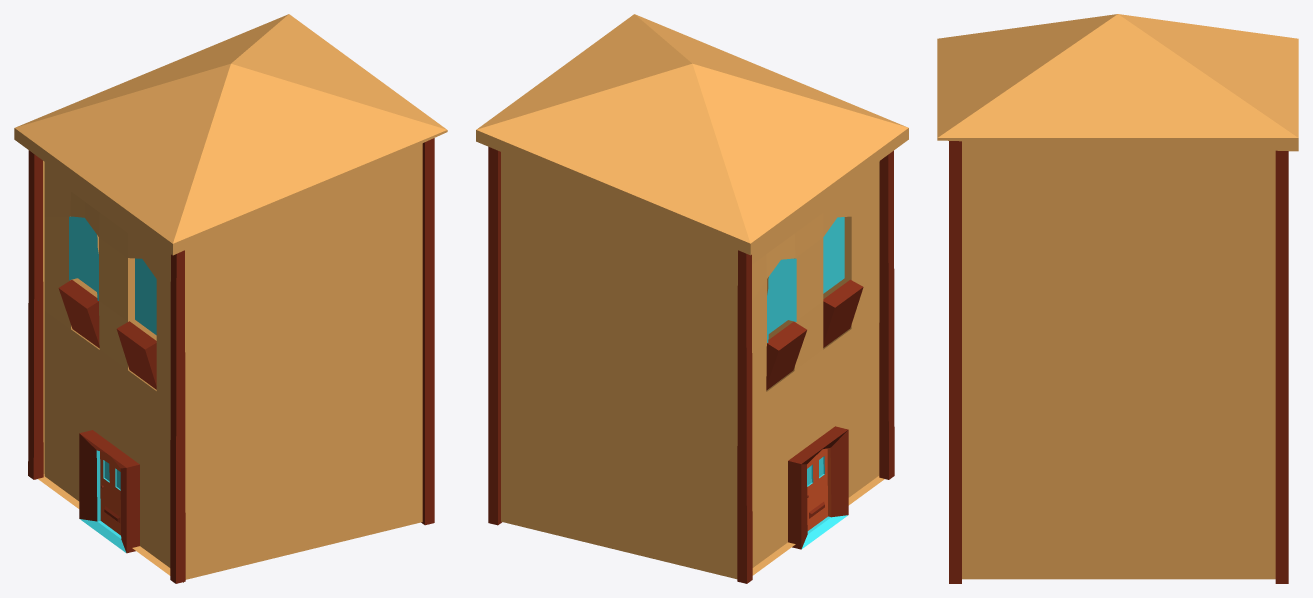
File: Building2Improved 1.fbx
The picture shows the model from 3 angles, left to right: view 1: azimuth 30°, elevation 25°; view 2: azimuth 150°, elevation 25°; view 3: azimuth 270°, elevation 25°; orthographic projection. The views are drawn at different scales.
Parts seen in each view (by area): view 1: Cube.007, Cube, Plane, Cube.001, Cube.004, Cube.002, Door Outline, windowcil, Plane.001, Door2.001, Door; view 2: Cube.007, Cube, Plane, Cube.004, Cube.001, Cube.003, Door Outline, windowcil, Plane.001, Door2.001, Door; view 3: Cube.007, Cube, Cube.003, Cube.002.
Boxes of the visible parts, box(x1,y1,x2,y2) form: Cube.007: box(43, 143, 422, 579); Cube: box(14, 14, 447, 575); Plane: box(44, 162, 183, 582); Cube.001: box(170, 250, 185, 583); Cube.004: box(28, 150, 43, 479); Cube.002: box(421, 138, 434, 525); Door Outline: box(79, 430, 139, 553); windowcil: box(58, 280, 156, 389); Plane.001: box(69, 216, 156, 335); Door2.001: box(100, 451, 120, 535); Door: box(80, 450, 126, 552); Cube.007: box(501, 152, 879, 579); Cube: box(476, 14, 908, 575); Plane: box(752, 161, 879, 567); Cube.004: box(737, 250, 752, 583); Cube.001: box(879, 150, 894, 479); Cube.003: box(488, 147, 502, 525); Door Outline: box(788, 426, 848, 549); windowcil: box(766, 279, 863, 390); Plane.001: box(767, 217, 844, 342); Door2.001: box(807, 447, 831, 530); Door: box(801, 456, 847, 549); Cube.007: box(962, 141, 1275, 579); Cube: box(937, 14, 1298, 151); Cube.003: box(1275, 150, 1288, 583); Cube.002: box(949, 141, 961, 583).
Bounding box in the file's own units: 5613 × 8586 × 5606.
